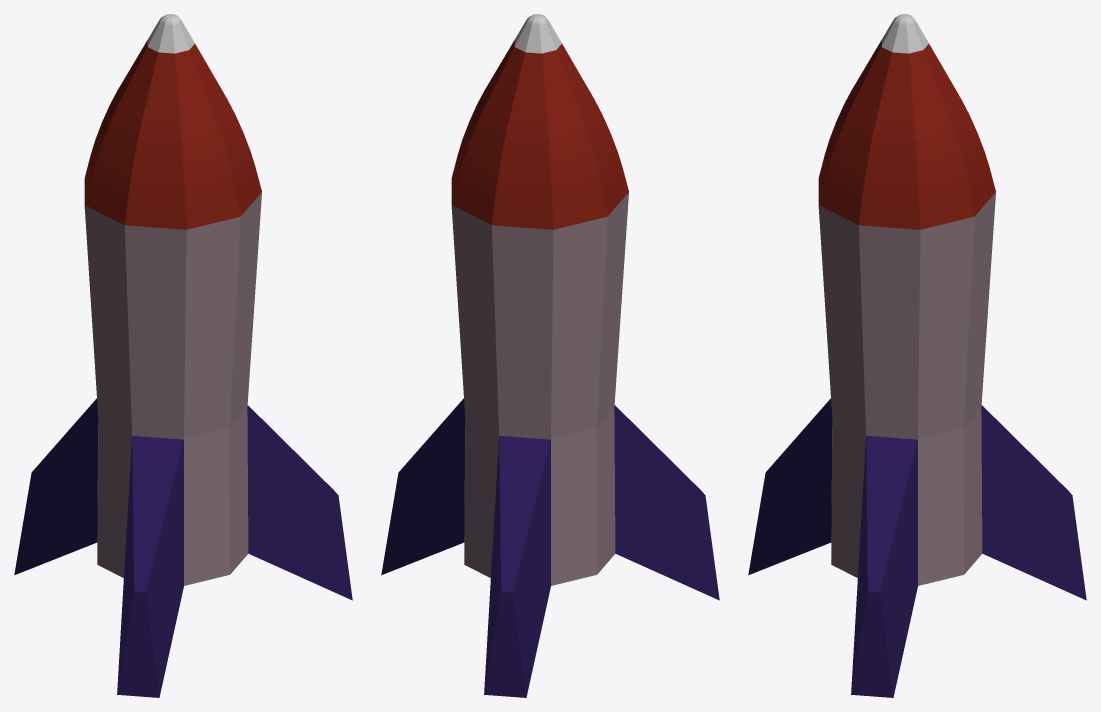
The model's file is rocket.glb.
The picture shows the model from 3 angles, left to right: view 1: azimuth 30°, elevation 25°; view 2: azimuth 150°, elevation 25°; view 3: azimuth 270°, elevation 25°; orthographic projection.
Visible parts, largest first — view 1: Body, Wings, UpCone, up; view 2: Body, Wings, UpCone, up; view 3: Body, Wings, UpCone, up.
Part boxes in pixels (bbox=[...]): Body: bbox=[84, 192, 261, 585]; Wings: bbox=[14, 398, 352, 697]; UpCone: bbox=[84, 40, 261, 229]; up: bbox=[147, 14, 194, 53]; Body: bbox=[451, 192, 628, 585]; Wings: bbox=[381, 398, 719, 697]; UpCone: bbox=[451, 40, 628, 229]; up: bbox=[514, 14, 561, 53]; Body: bbox=[818, 192, 995, 585]; Wings: bbox=[748, 398, 1086, 697]; UpCone: bbox=[818, 40, 995, 229]; up: bbox=[881, 14, 928, 53].
Bounding box in the file's own units: 1.76 × 3.64 × 1.85.
